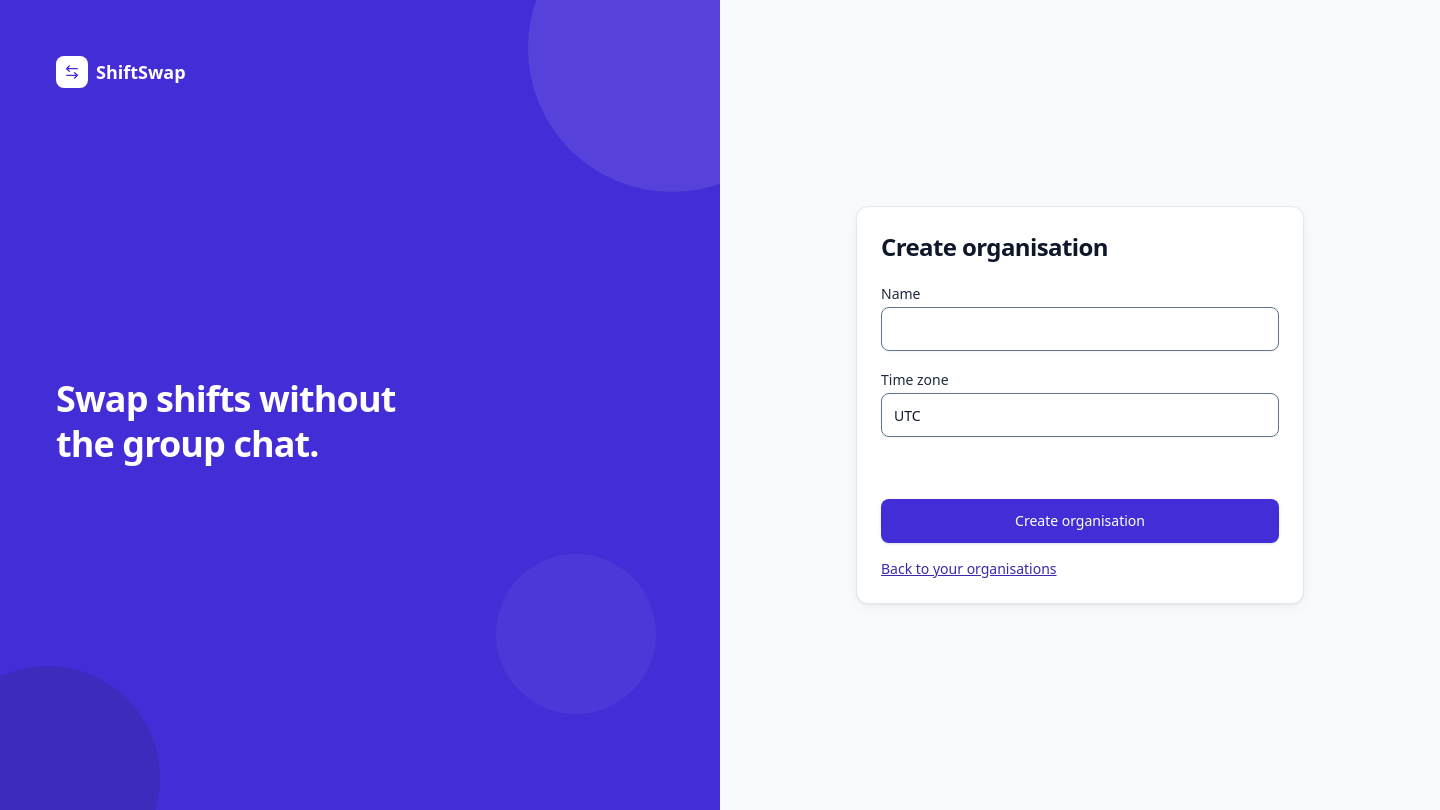
Test: CreateOrgPage › validates name and zone, focusing the first error
Replace the text in the field labelled "Time zone" with "Mars/Olympus" at (1080, 415), box x1=881 y1=393 x2=1279 y2=437
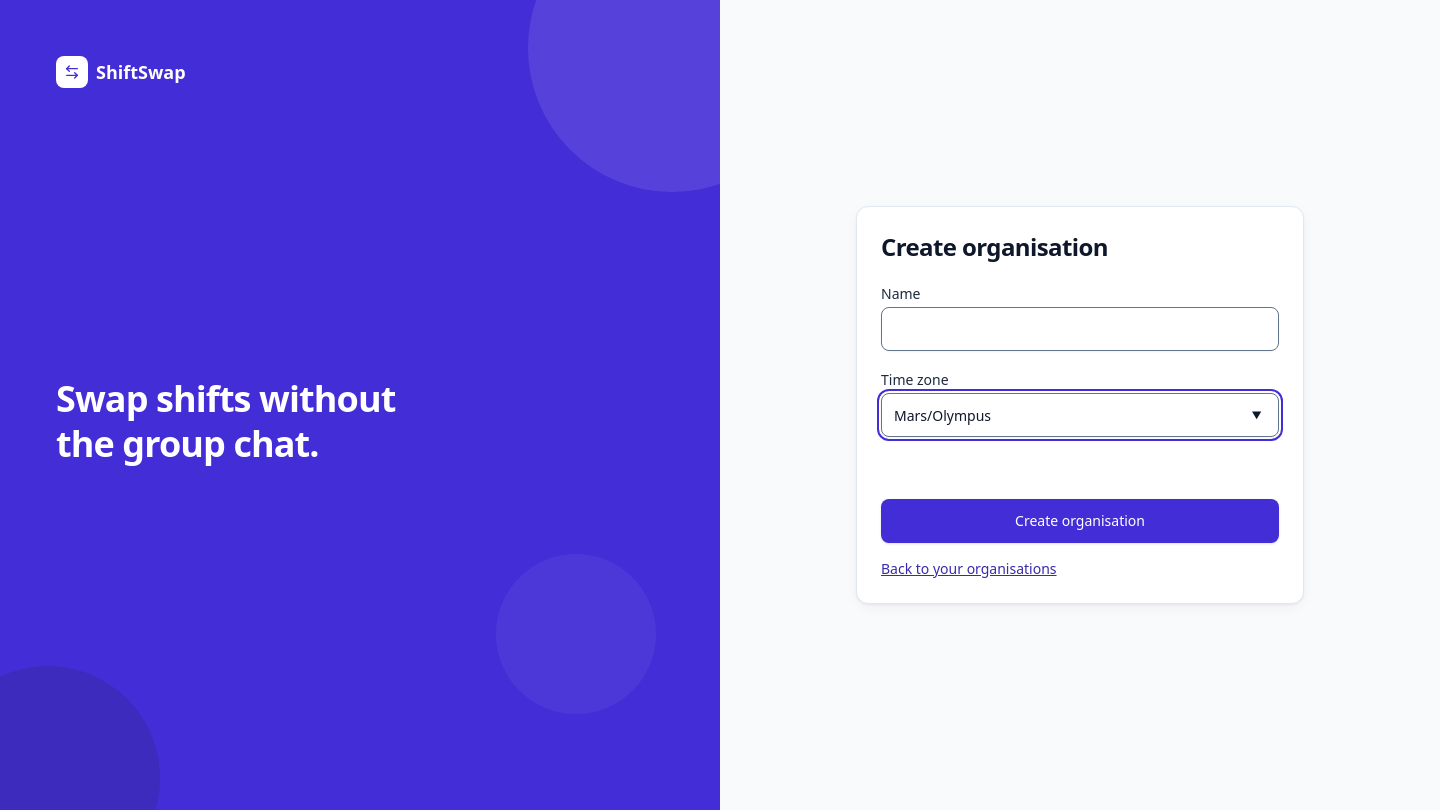
Click the button "Create organisation" at (1080, 521), box x1=881 y1=499 x2=1279 y2=543
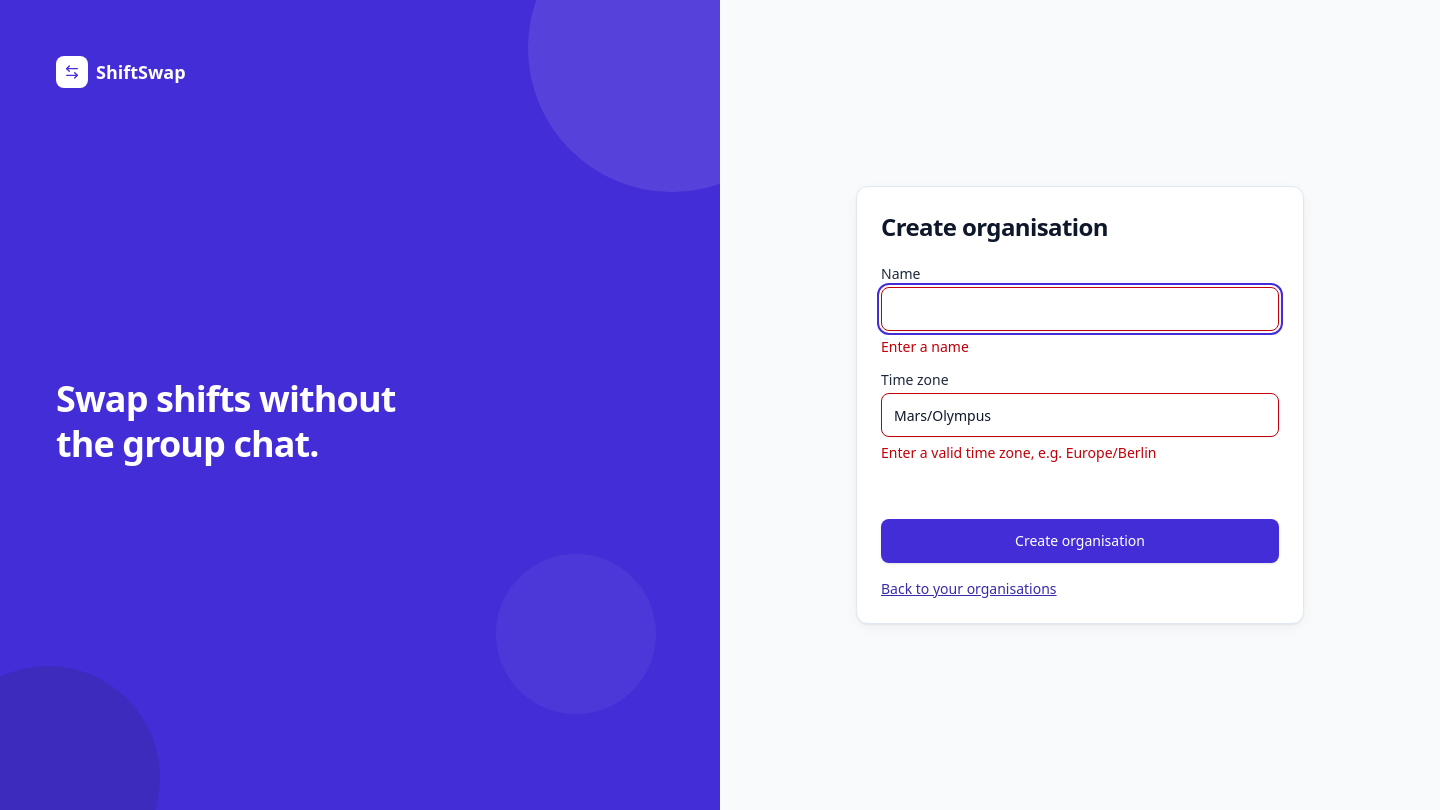
Expected: the text "Enter a name" is shown, x1=881 y1=337 x2=969 y2=356
Expected: the text "Enter a valid time zone, e.g. Europe/Berlin" is shown, x1=881 y1=443 x2=1156 y2=462
